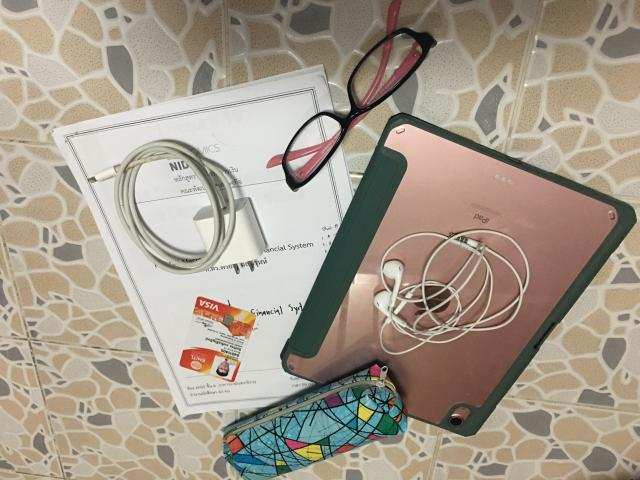Glasses: (268, 29, 436, 190)
paper: (54, 66, 405, 416)
wire: (89, 140, 265, 274), (374, 229, 530, 355)
